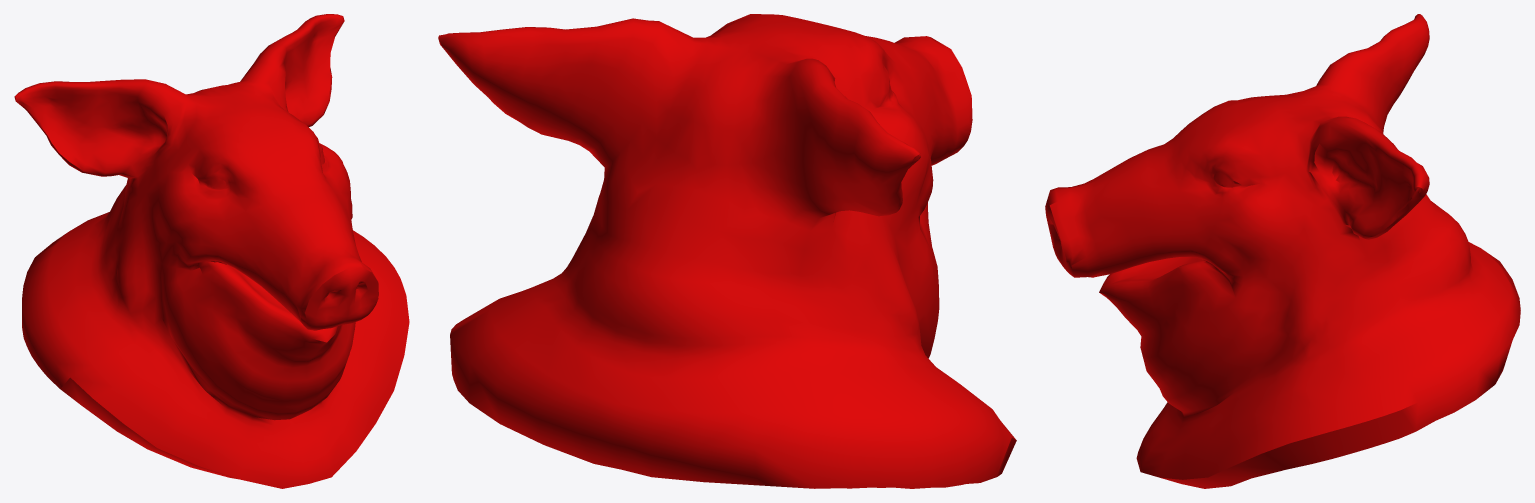
3 views of the same model, side by side, from view 1: azimuth 30°, elevation 25°; view 2: azimuth 150°, elevation 25°; view 3: azimuth 270°, elevation 25° (orthographic). The views are drawn at different scales.
Visible parts, largest first — view 1: box1; view 2: box1; view 3: box1.
Part boxes in pixels (x1,y1,x2,y2): box1: [14, 14, 409, 488]; box1: [438, 14, 1016, 488]; box1: [1045, 14, 1520, 488].
Bounding box in the file's own units: 2 × 1.9 × 2.2.
